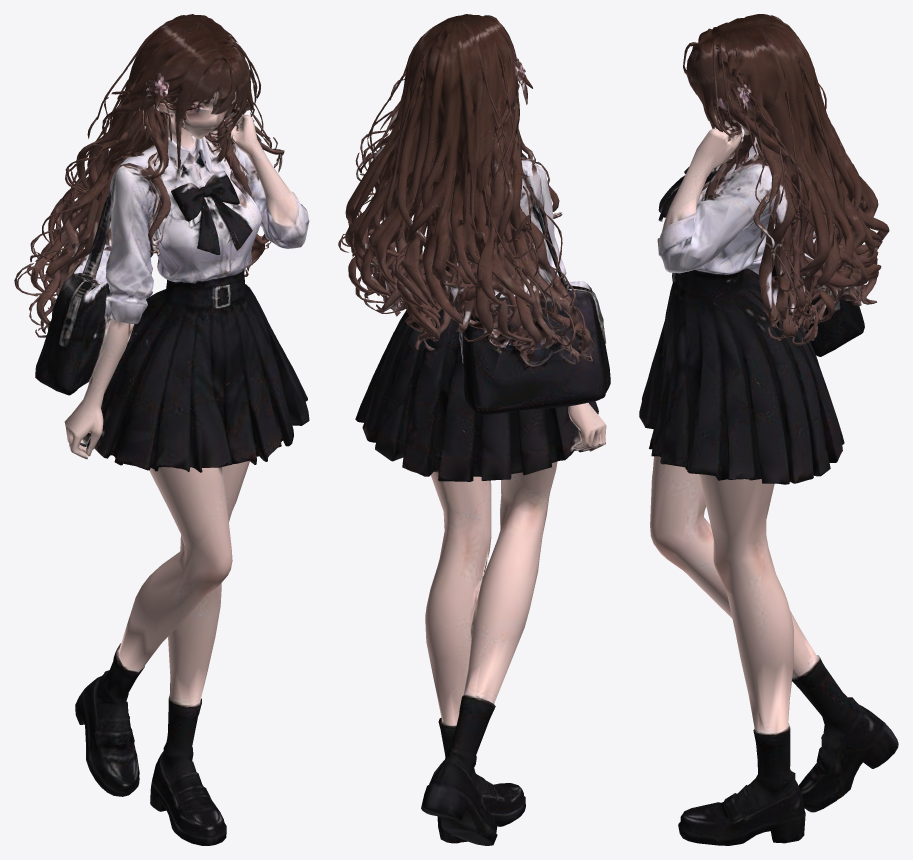
File: sakura_classmate.glb
3 renders of one model, left to right at view 1: azimuth 30°, elevation 25°; view 2: azimuth 150°, elevation 25°; view 3: azimuth 270°, elevation 25°, orthographic. The views are drawn at different scales.
Bounding box in the file's own units: 0.6288 × 1.9 × 0.5441.
Materials: 1 (1 with a texture image).
